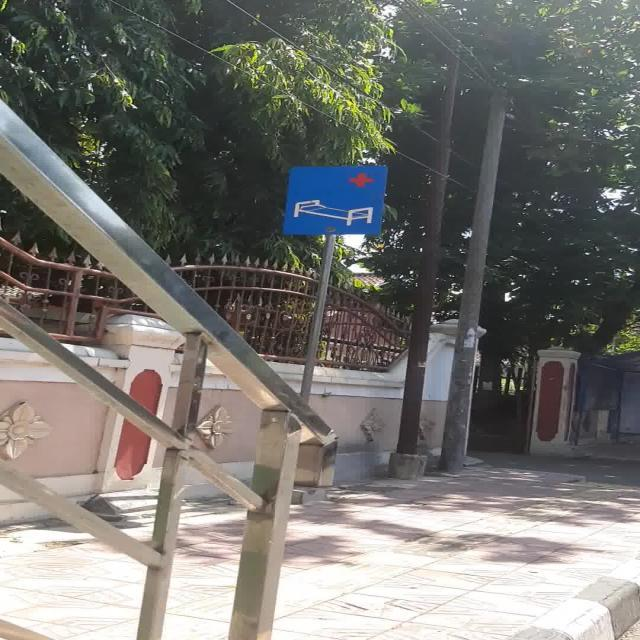Rumah Sakit: (283, 167, 388, 234)
